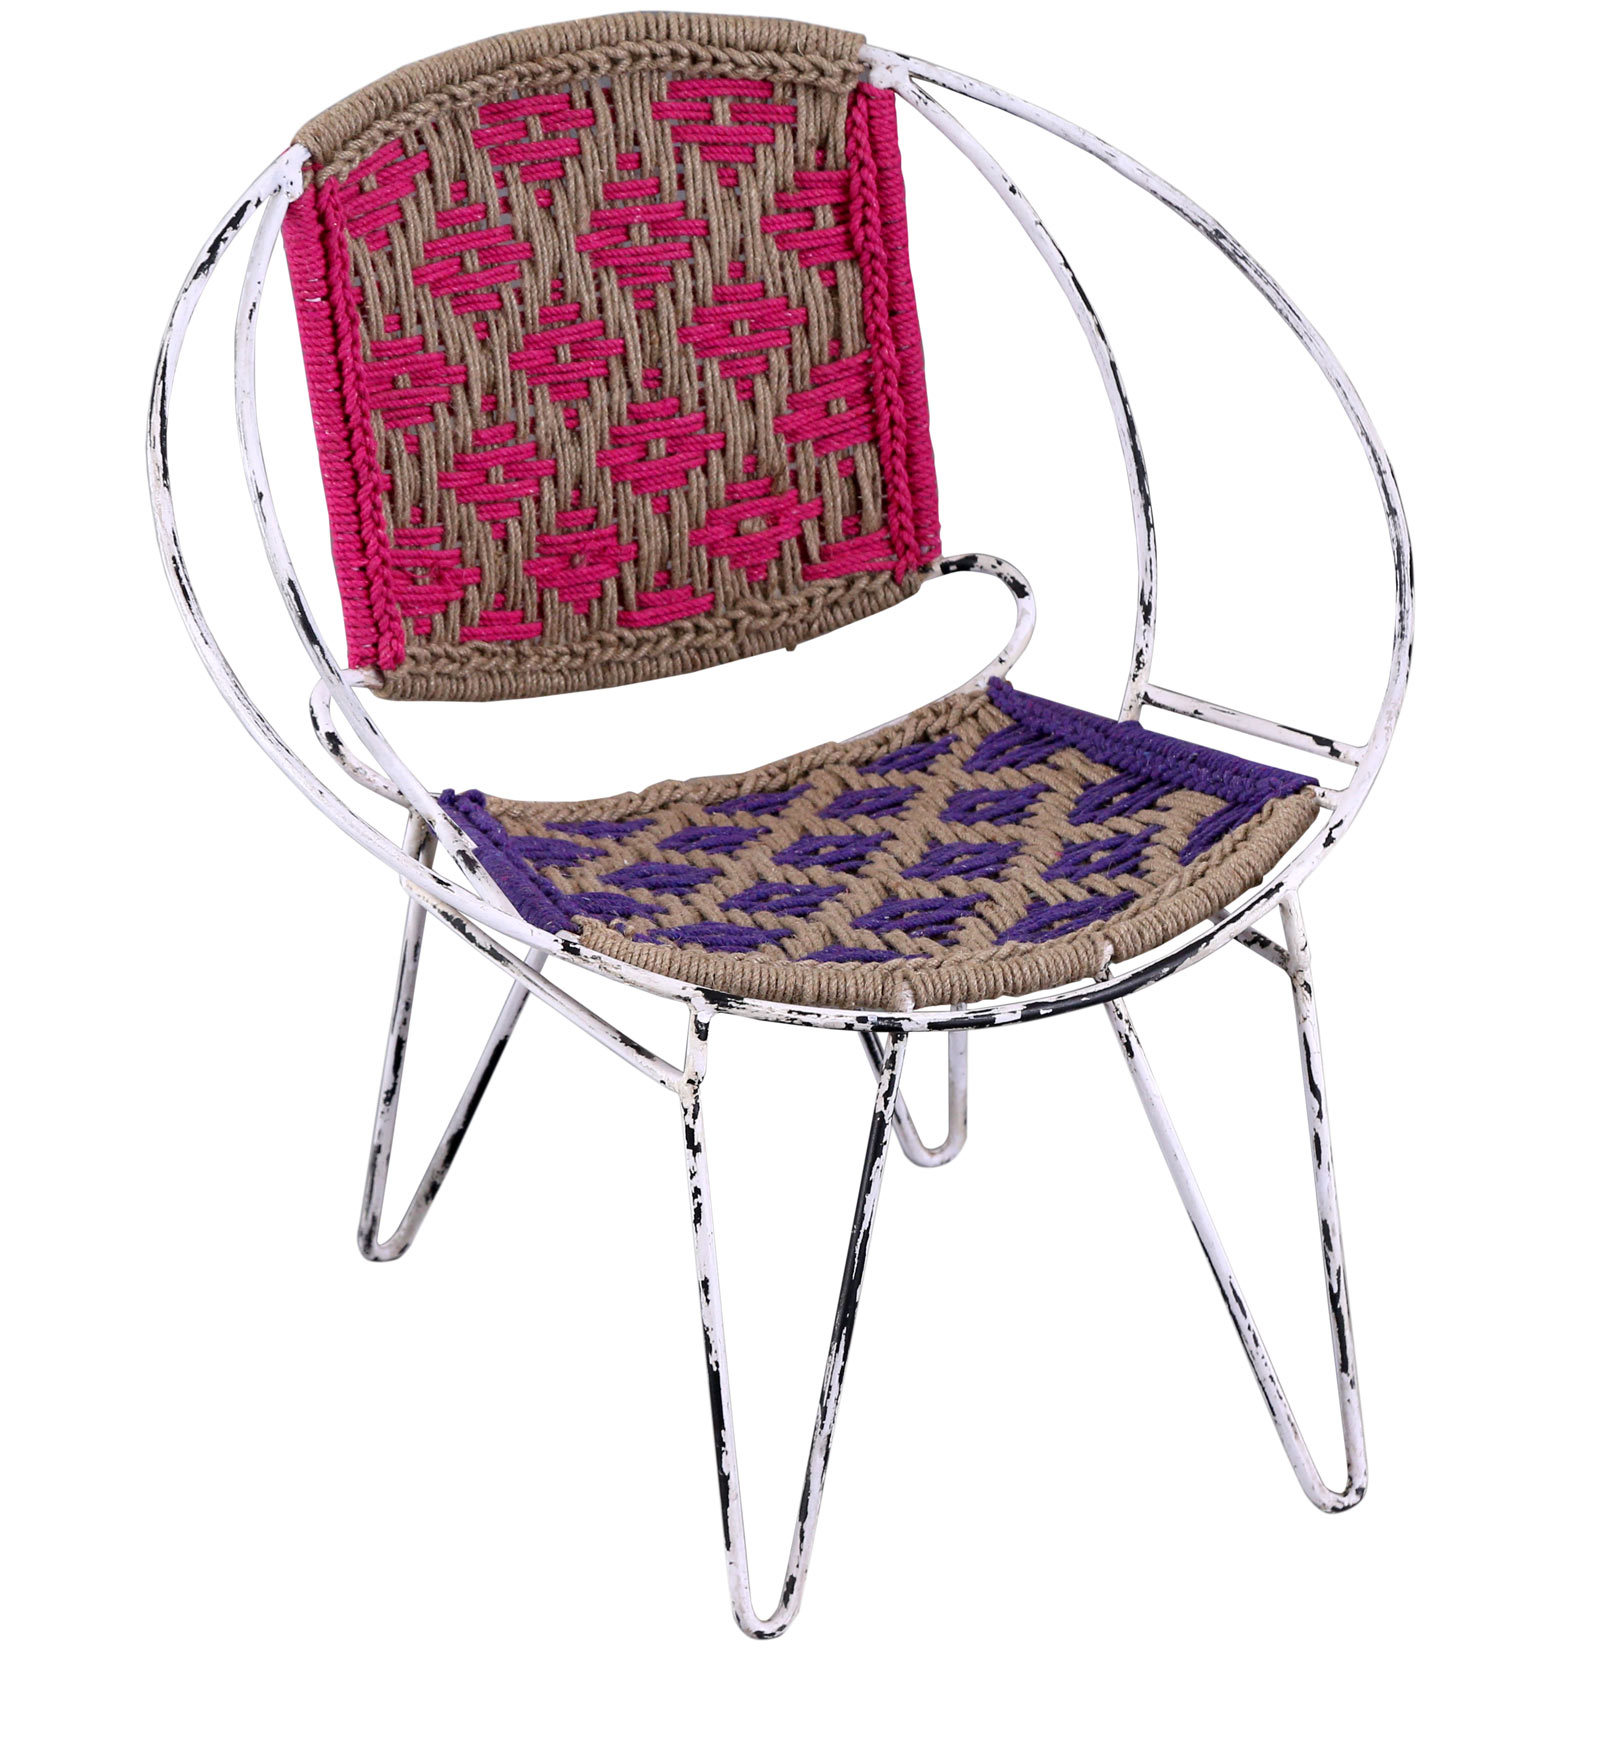Ambatovy Outdoor Chair in Multicolour by Bohemiana: (103, 9, 1441, 1666)
